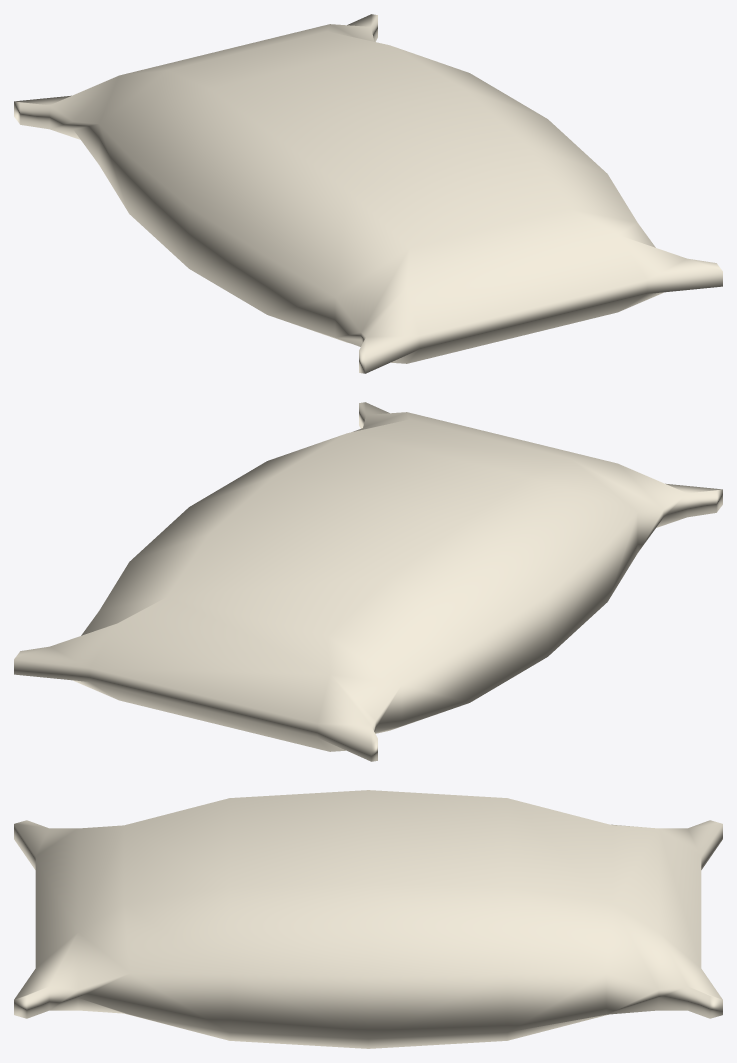
The model's file is GunnyBag_White.fbx.
The picture shows the model from 3 angles, top to bottom: view 1: azimuth 30°, elevation 25°; view 2: azimuth 150°, elevation 25°; view 3: azimuth 270°, elevation 25°; orthographic projection.
Parts seen in each view (by area): view 1: GunnyBag_White; view 2: GunnyBag_White; view 3: GunnyBag_White.
Part boxes in pixels (x1,y1,x2,y2): GunnyBag_White: (14, 14, 722, 373); GunnyBag_White: (14, 402, 722, 761); GunnyBag_White: (14, 790, 722, 1048).
Size of the model in its own units: 45.77 by 19.99 by 77.65.
